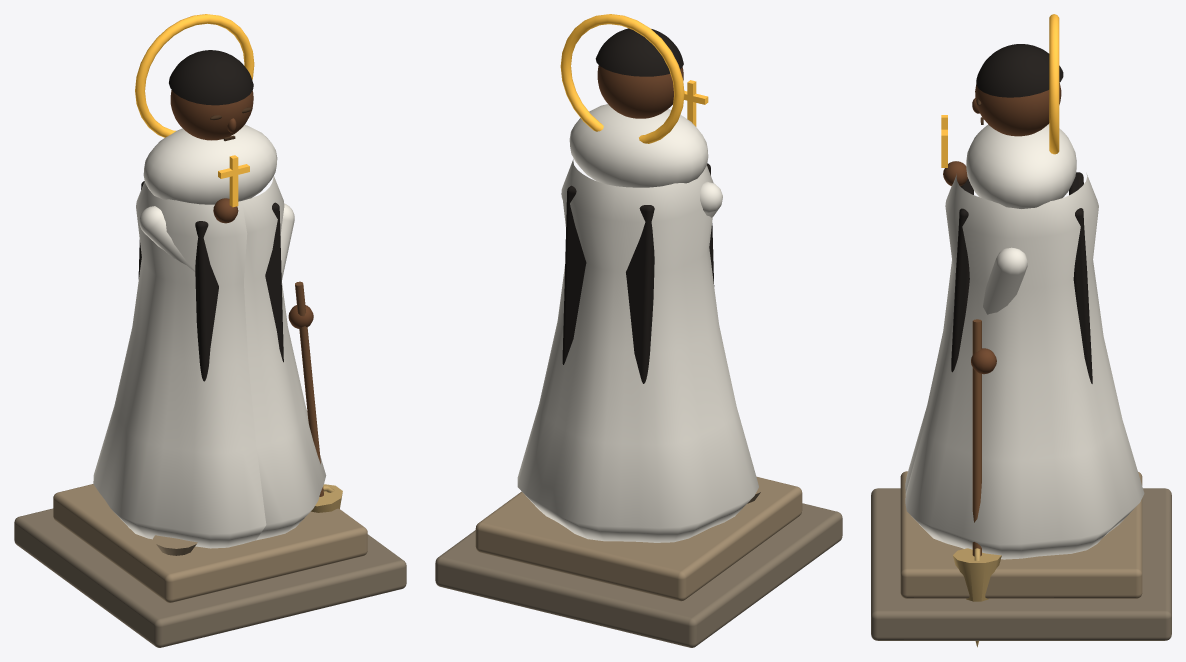
The model's file is statue-martino.glb.
The picture shows the model from 3 angles, left to right: view 1: azimuth 30°, elevation 25°; view 2: azimuth 150°, elevation 25°; view 3: azimuth 270°, elevation 25°; orthographic projection. The views are drawn at different scales.
Visible parts, largest first — view 1: Robe, PlinthLow, PlinthTop, Shoulders, Scapular, Hair, object 24, Head, Broom, ArmL, Cross, ArmR (+1 smaller); view 2: Robe, PlinthLow, PlinthTop, Shoulders, ScapularBack, object 24, Head, Hair, ArmL; view 3: Robe, PlinthLow, PlinthTop, Shoulders, Hair, Head, ArmR, ScapularBack, Broom, Scapular, BroomBrush, object 24 (+2 smaller).
Boxes of the visible parts, x1=… form: Robe: x1=93, y1=176, x2=326, y2=548; PlinthLow: x1=14, y1=508, x2=406, y2=647; PlinthTop: x1=53, y1=484, x2=367, y2=602; Shoulders: x1=143, y1=125, x2=277, y2=204; Scapular: x1=195, y1=202, x2=283, y2=381; Hair: x1=169, y1=50, x2=253, y2=105; object 24: x1=135, y1=14, x2=254, y2=137; Head: x1=170, y1=90, x2=253, y2=140; Broom: x1=295, y1=281, x2=323, y2=496; ArmL: x1=139, y1=206, x2=195, y2=271; Cross: x1=218, y1=155, x2=249, y2=207; ArmR: x1=280, y1=203, x2=294, y2=281; Robe: x1=517, y1=159, x2=758, y2=542; PlinthLow: x1=435, y1=503, x2=842, y2=647; PlinthTop: x1=475, y1=476, x2=802, y2=601; Shoulders: x1=569, y1=104, x2=708, y2=187; ScapularBack: x1=562, y1=185, x2=654, y2=383; object 24: x1=560, y1=14, x2=684, y2=143; Head: x1=597, y1=65, x2=683, y2=118; Hair: x1=595, y1=28, x2=683, y2=76; ArmL: x1=700, y1=181, x2=722, y2=217; Robe: x1=905, y1=173, x2=1144, y2=559; PlinthLow: x1=871, y1=488, x2=1171, y2=640; PlinthTop: x1=900, y1=471, x2=1142, y2=598; Shoulders: x1=966, y1=123, x2=1076, y2=208; Hair: x1=976, y1=44, x2=1063, y2=97; Head: x1=975, y1=83, x2=1061, y2=136; ArmR: x1=983, y1=247, x2=1027, y2=314; ScapularBack: x1=1069, y1=172, x2=1092, y2=383; Broom: x1=972, y1=319, x2=981, y2=556; Scapular: x1=951, y1=178, x2=973, y2=372; BroomBrush: x1=953, y1=548, x2=1001, y2=647; object 24: x1=1049, y1=14, x2=1059, y2=154.
Bounding box in the file's own units: 0.92 × 1.95 × 0.92.
